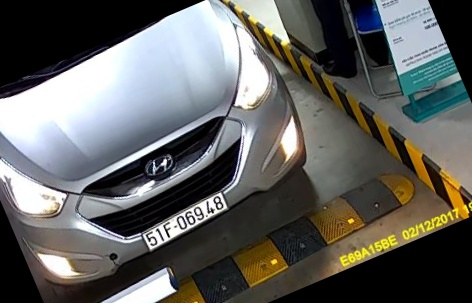plate: (134, 191, 232, 252)
